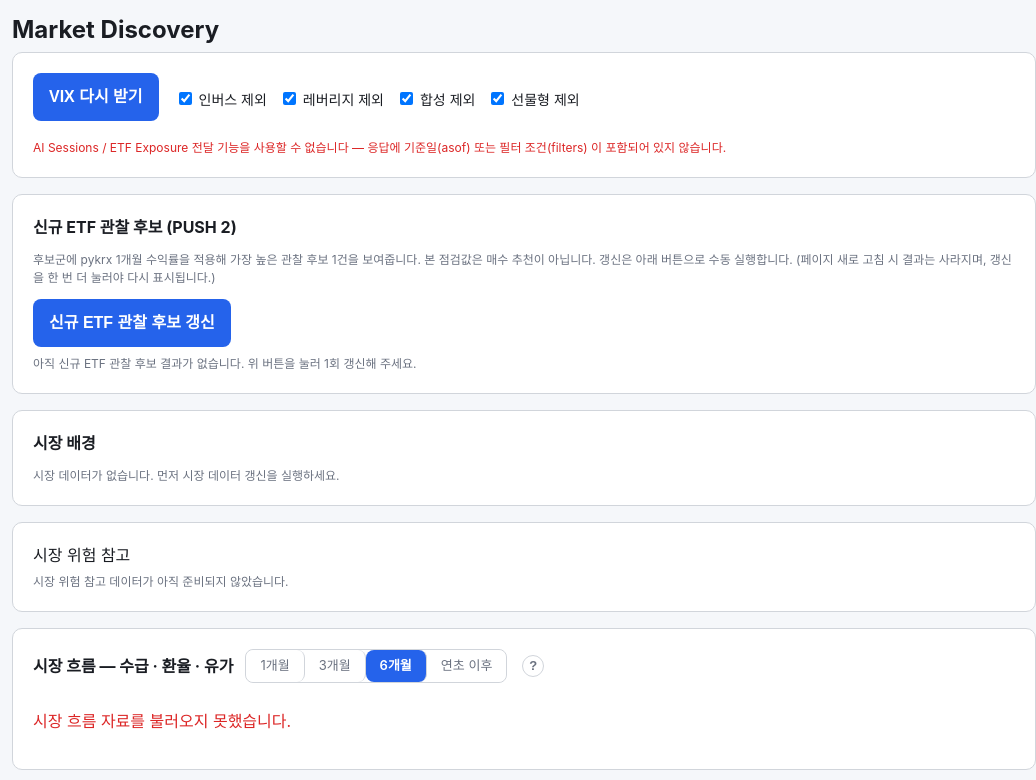
Scenario: 'VIX 다시 받기' 버튼 (POC5-12) › 첫 상태 조회 전에 이미 끝났어도 결과가 보인다(빠른 완료)
This screenshot has width=1036, height=780.
Click the button "VIX 다시 받기" at (96, 97), box [33,73,159,121]
Wait 4100 ms
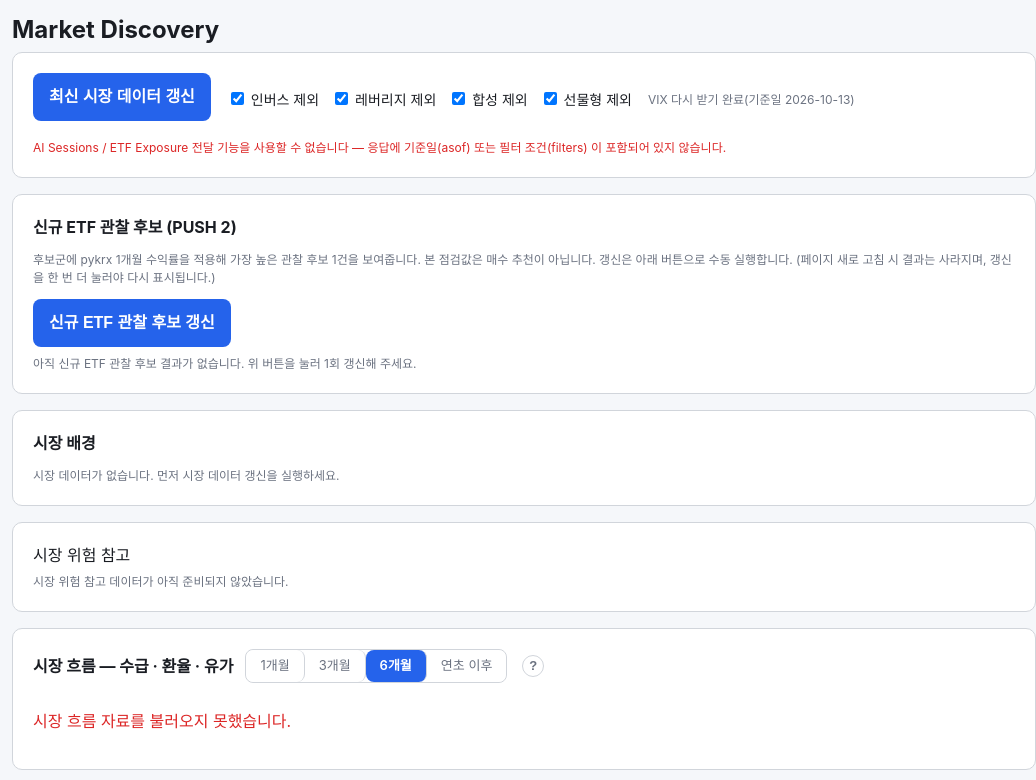
Expected: the text "VIX 다시 받기 완료(기준일 2026-10-13)" is shown, [648,91,855,109]
